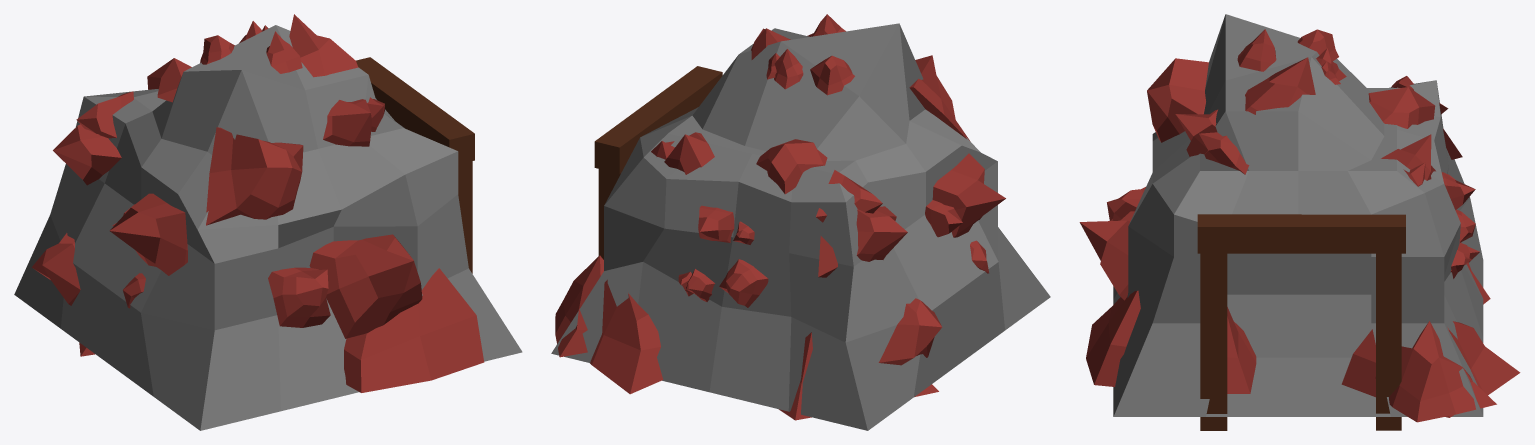
Rendered from IronOreMine.fbx.
3 views of the same model, side by side, from view 1: azimuth 30°, elevation 25°; view 2: azimuth 150°, elevation 25°; view 3: azimuth 270°, elevation 25° (orthographic).
Visible parts, largest first — view 1: Cube, Cube.006, Cube.022; view 2: Cube, Cube.006, Cube.022; view 3: Cube, Cube.006, Cube.022.
Boxes of the visible parts, box(x1,y1,x2,y2) form: Cube: box(14, 25, 522, 430); Cube.006: box(31, 14, 484, 392); Cube.022: box(356, 57, 474, 273); Cube: box(551, 23, 1050, 430); Cube.006: box(555, 14, 1005, 420); Cube.022: box(594, 66, 722, 259); Cube: box(1113, 14, 1483, 416); Cube.006: box(1079, 29, 1520, 422); Cube.022: box(1197, 214, 1405, 430).
Size of the model in its own units: 213 by 181 by 218.
